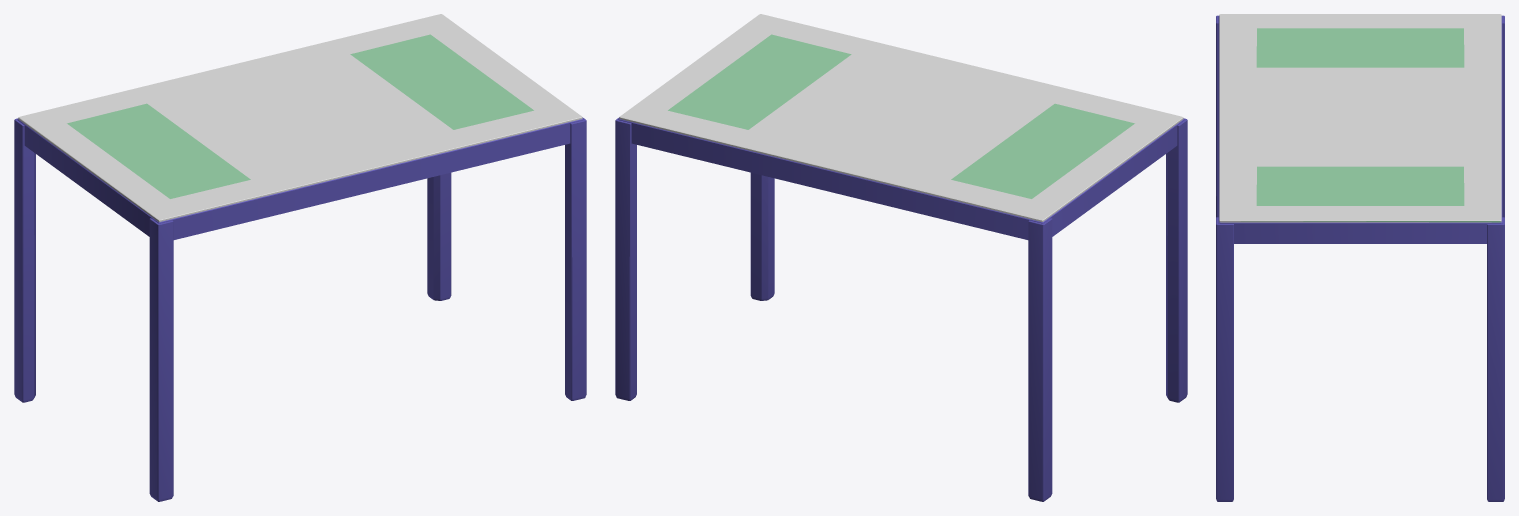
Rendered from SDJJA12301.FBX.
3 views of the same model, side by side, from view 1: azimuth 30°, elevation 25°; view 2: azimuth 150°, elevation 25°; view 3: azimuth 270°, elevation 25° (orthographic).
Parts seen in each view (by area): view 1: SDJJA12301; view 2: SDJJA12301; view 3: SDJJA12301.
Part boxes in pixels (x1,y1,x2,y2): SDJJA12301: (14, 14, 586, 501); SDJJA12301: (615, 14, 1187, 501); SDJJA12301: (1216, 14, 1504, 501).
Size of the model in its own units: 120 by 70 by 75.01.
